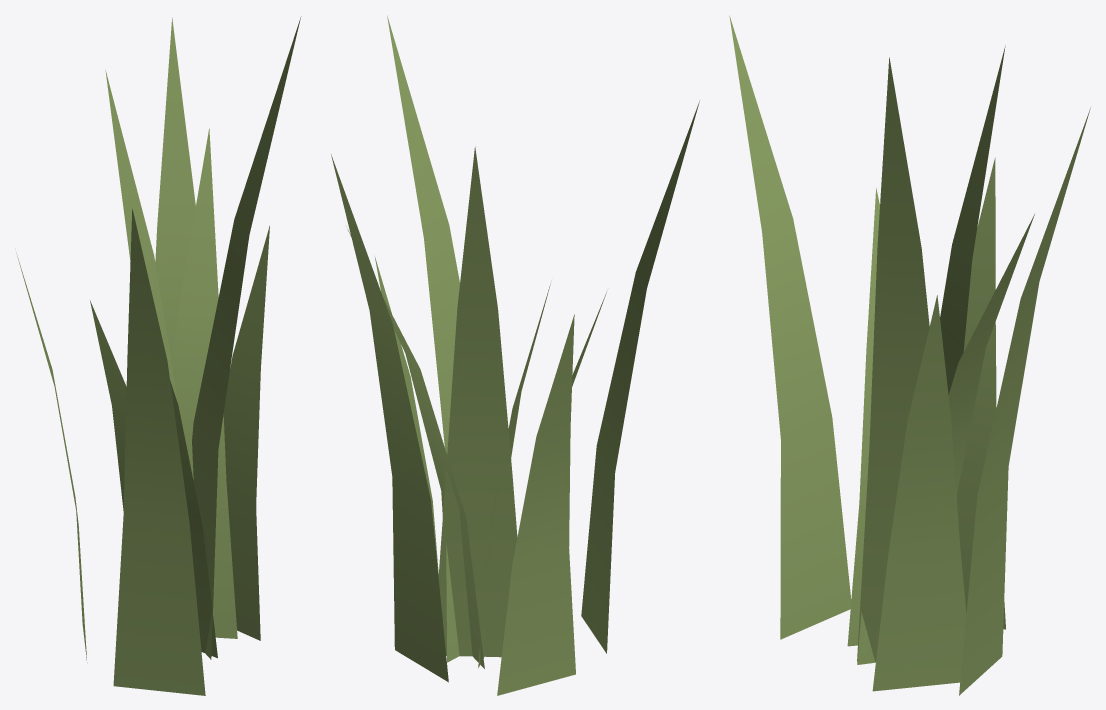
File: grass_clump.glb
The picture shows the model from 3 angles, left to right: view 1: azimuth 30°, elevation 25°; view 2: azimuth 150°, elevation 25°; view 3: azimuth 270°, elevation 25°; orthographic projection. The views are drawn at different scales.
Visible parts, largest first — view 1: grass_clump; view 2: grass_clump; view 3: grass_clump.
Boxes of the visible parts, x1,y1,x2,y2 form: grass_clump: (16, 16, 301, 695); grass_clump: (331, 15, 699, 695); grass_clump: (729, 15, 1090, 695).
Size of the model in its own units: 0.3134 by 0.7505 by 0.3729.
